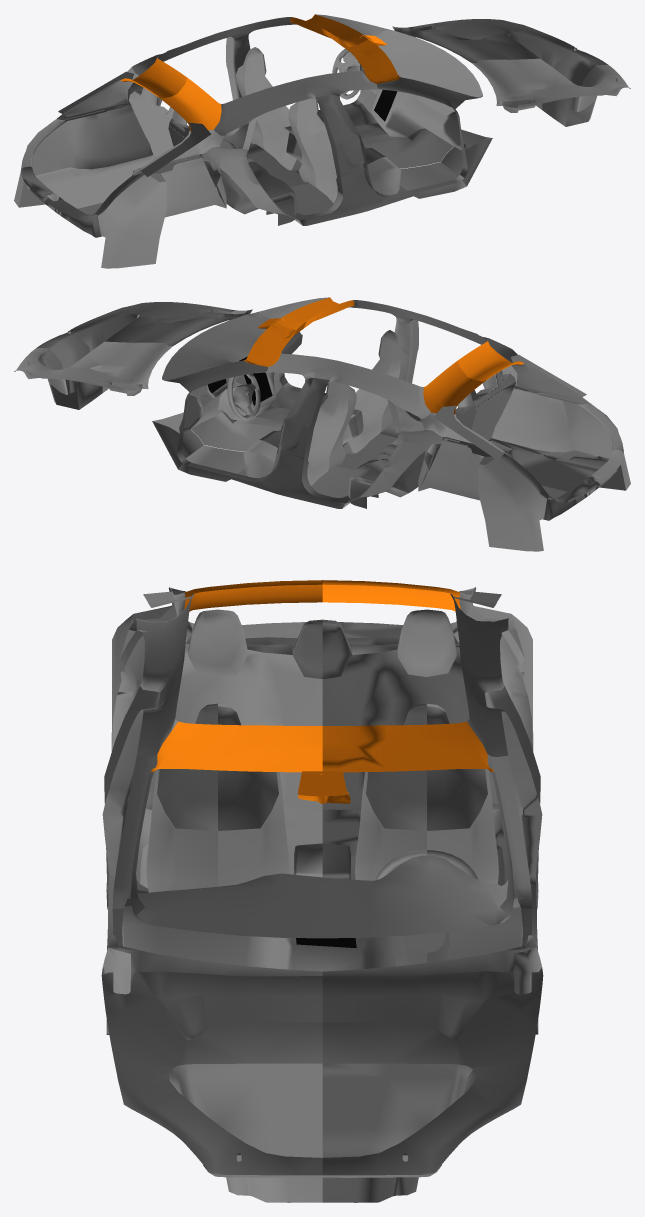
The model's file is Interior1.obj.
3 renders of one model, top to bottom at view 1: azimuth 30°, elevation 25°; view 2: azimuth 150°, elevation 25°; view 3: azimuth 270°, elevation 25°, orthographic. The views are drawn at different scales.
Parts seen in each view (by area): view 1: Interior1; view 2: Interior1; view 3: Interior1.
Part boxes in pixels (box(x1,y1,x2,y2)): Interior1: box(14, 14, 630, 268); Interior1: box(14, 297, 630, 551); Interior1: box(101, 580, 543, 1202).
Bounding box in the file's own units: 4.79 × 1.14 × 1.62.
